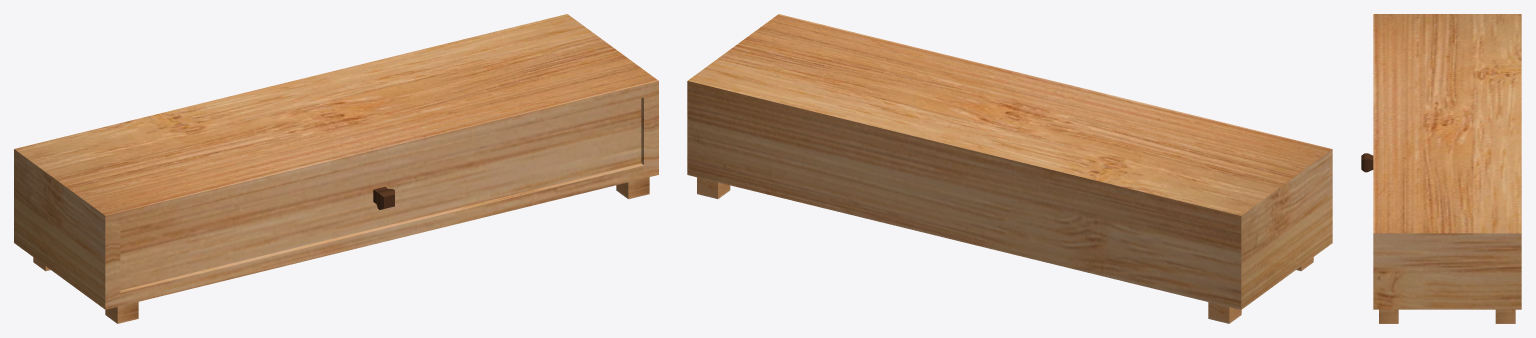
File: mesatele.fbx
The picture shows the model from 3 angles, left to right: view 1: azimuth 30°, elevation 25°; view 2: azimuth 150°, elevation 25°; view 3: azimuth 270°, elevation 25°; orthographic projection. The views are drawn at different scales.
Visible parts, largest first — view 1: Cube.011; view 2: Cube.011; view 3: Cube.011.
Boxes of the visible parts, bbox=[...] form: Cube.011: bbox=[14, 14, 658, 323]; Cube.011: bbox=[687, 14, 1332, 323]; Cube.011: bbox=[1361, 14, 1521, 323].
Bounding box in the file's own units: 545 × 108 × 168.
